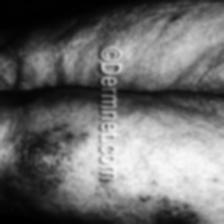Non-Cancerous Skin Condition: (1, 122, 86, 200), (157, 190, 201, 224)
